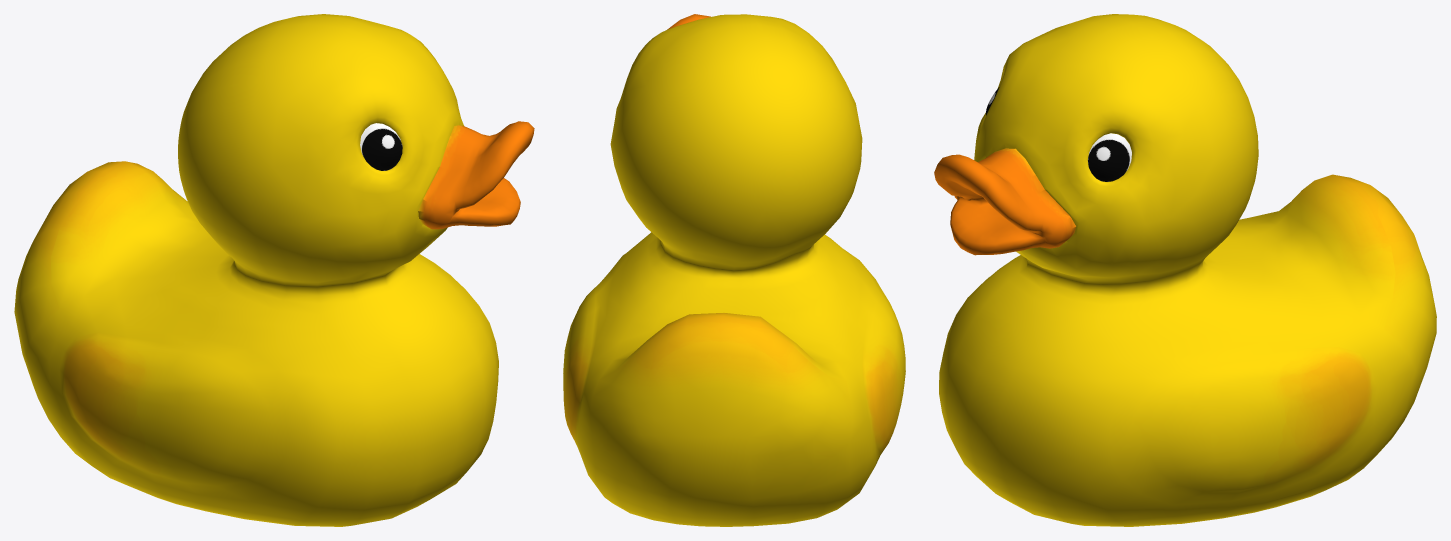
Rendered from Duck.glb.
3 renders of one model, left to right at view 1: azimuth 30°, elevation 25°; view 2: azimuth 150°, elevation 25°; view 3: azimuth 270°, elevation 25°, orthographic. The views are drawn at different scales.
Parts seen in each view (by area): view 1: LOD3spShape; view 2: LOD3spShape; view 3: LOD3spShape.
Part boxes in pixels (x1=…): LOD3spShape: x1=14, y1=14, x2=534, y2=526; LOD3spShape: x1=563, y1=14, x2=905, y2=526; LOD3spShape: x1=934, y1=14, x2=1436, y2=526.
Size of the model in its own units: 0.6401 by 0.7702 by 0.7692.
Materials: 1 (1 with a texture image).
